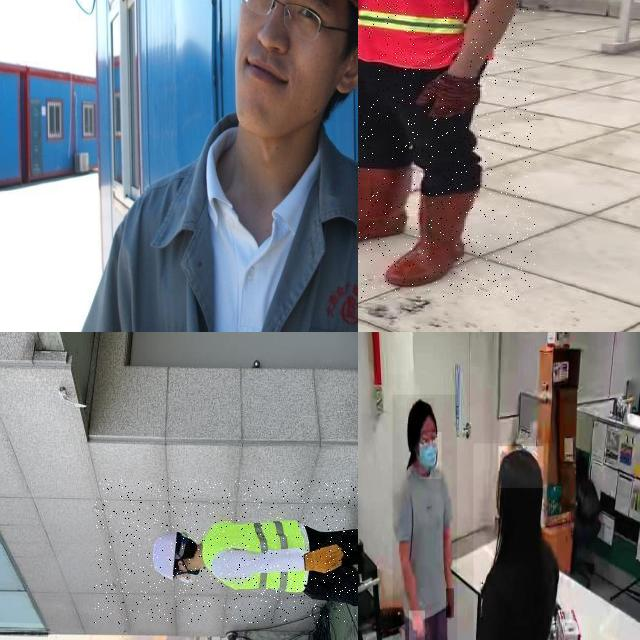No_Ear-Protection: (228, 0, 358, 147)
boots: (389, 193, 476, 285), (358, 167, 409, 251)
face_mask: (419, 432, 442, 479)
hand_noglove: (408, 610, 425, 640), (446, 588, 454, 618)
head_helmet: (152, 527, 181, 586)
head_nohelmet: (498, 446, 544, 489), (407, 398, 435, 422)
person: (358, 0, 535, 300), (94, 479, 358, 624), (473, 443, 556, 640), (392, 394, 457, 640)
vest: (358, 0, 492, 70), (198, 518, 312, 596)
